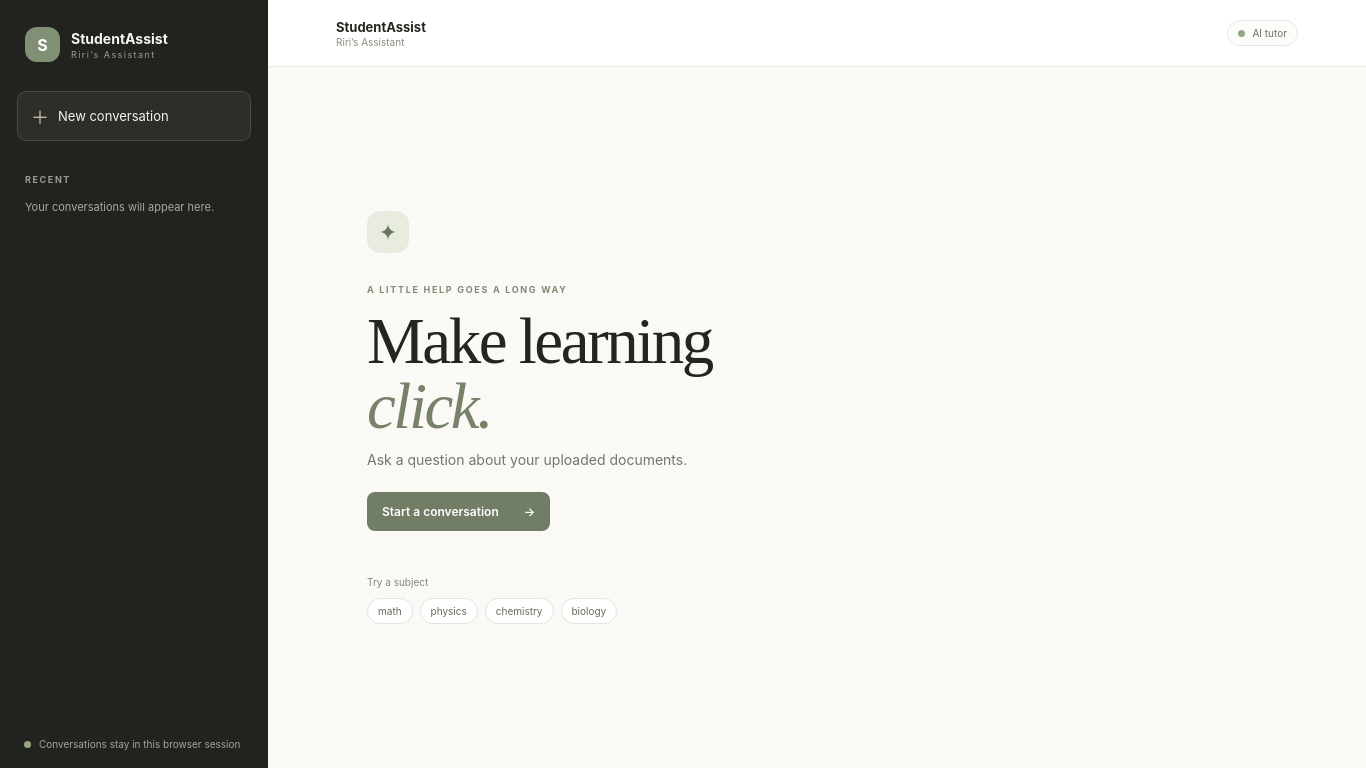
Scenario: StudentAssist chat › sends automatic questions without subject or document values
The width and height of the screenshot is (1366, 768).
Click the button "Start a conversation →": (459, 511) [367,492,550,531]
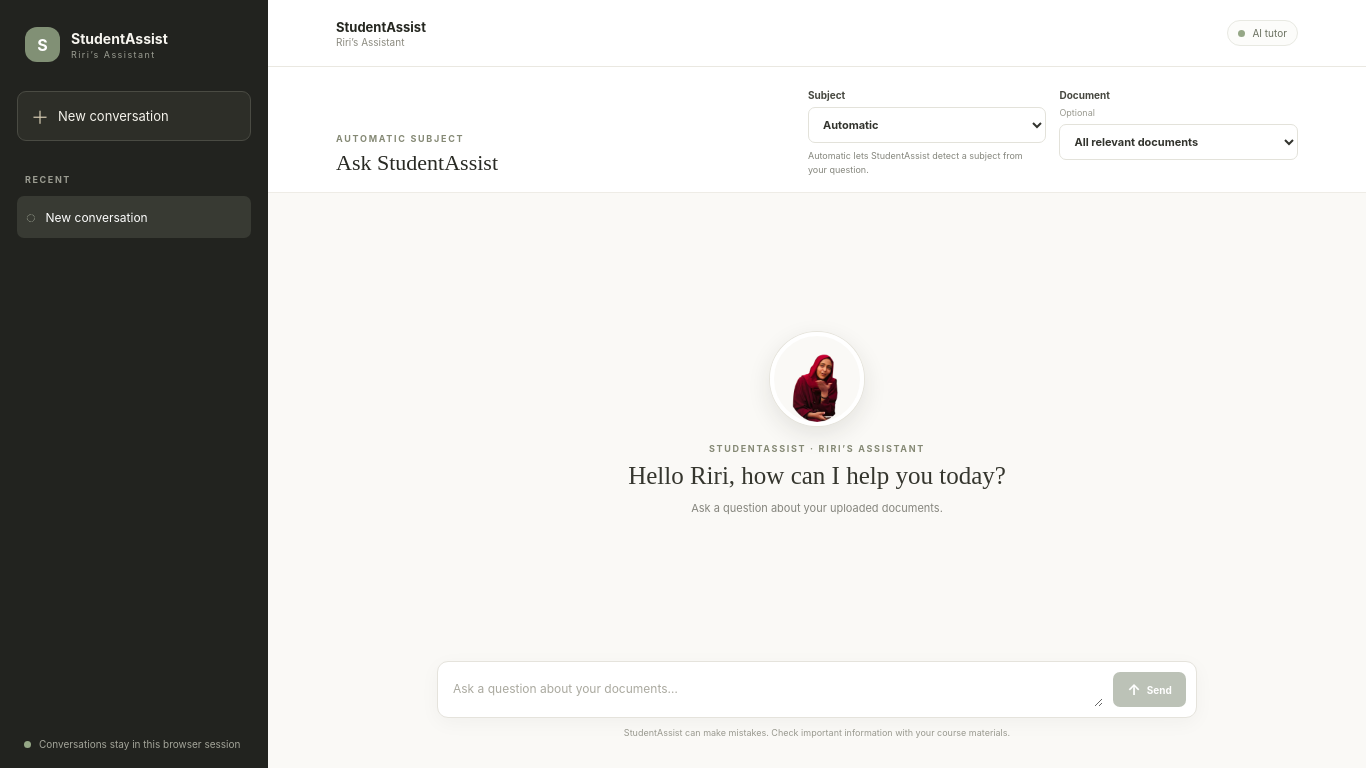
expect the dropdown labelled "Subject" shows "Automatic": met, box [808,107,1046,143]
expect the dropdown labelled "Document" shows "All relevant documents": met, box [1059,124,1298,160]
In the text box named "Your question": (776, 690) [448,672,1103,707], type "Explain facts about sets."
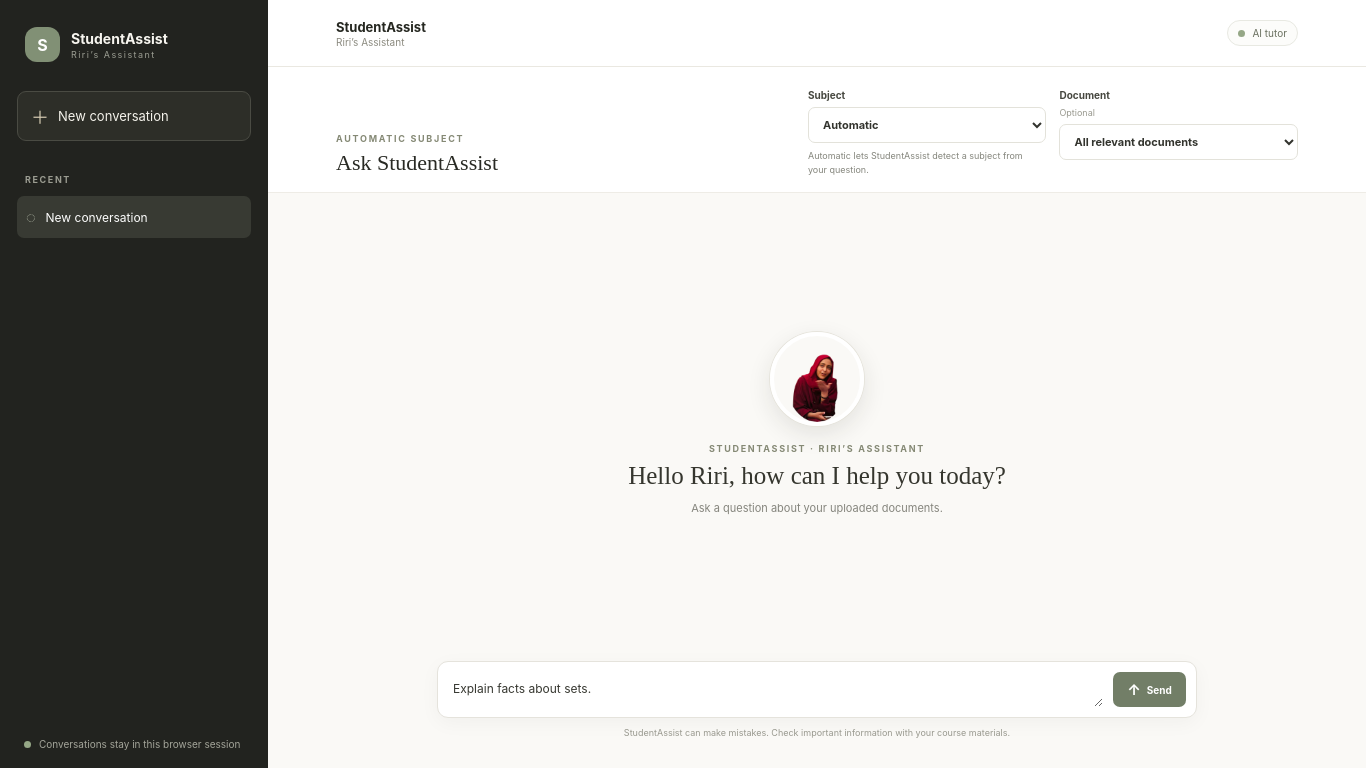
Press Enter in the text box named "Your question", box [448,672,1103,707]
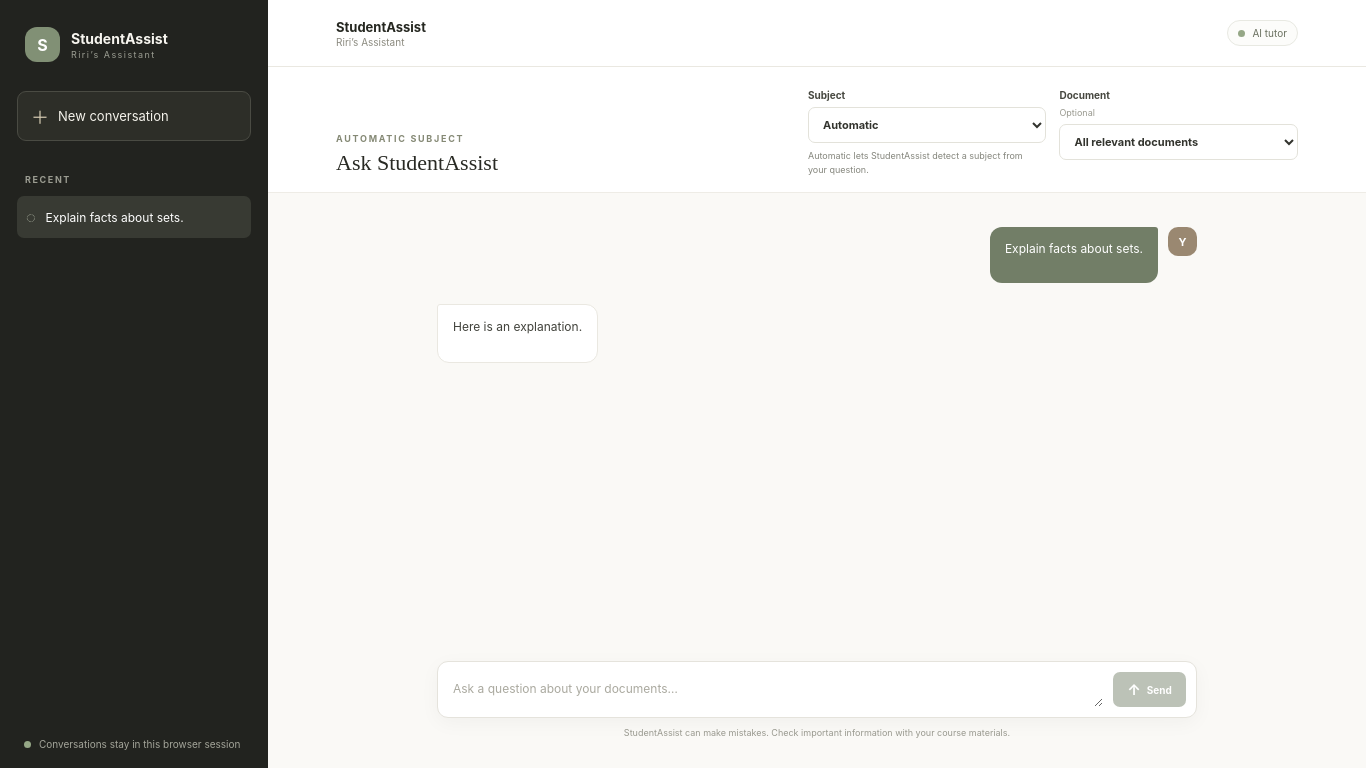
expect the text "Here is an explanation." is shown: met, box [453,317,582,338]
